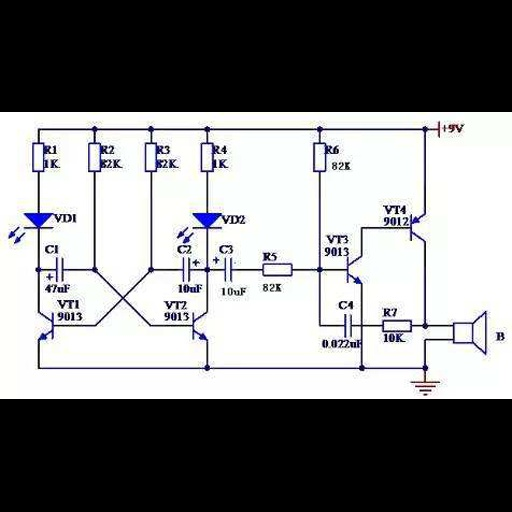capacitor: (338, 312, 359, 339)
firstled: (6, 206, 54, 245), (174, 207, 223, 245)
firstpolarcapacitor: (212, 254, 239, 284), (176, 253, 200, 284), (45, 255, 70, 282)
firstresistance: (256, 262, 299, 279), (309, 139, 326, 178), (377, 318, 417, 334), (28, 140, 45, 176), (197, 141, 214, 176), (141, 141, 157, 177), (85, 141, 101, 176)
gnd: (407, 379, 442, 397)
loudspeaker: (453, 308, 489, 359)
npn: (343, 255, 371, 290), (31, 307, 56, 345), (189, 308, 212, 347)
pnp: (409, 208, 429, 247)
